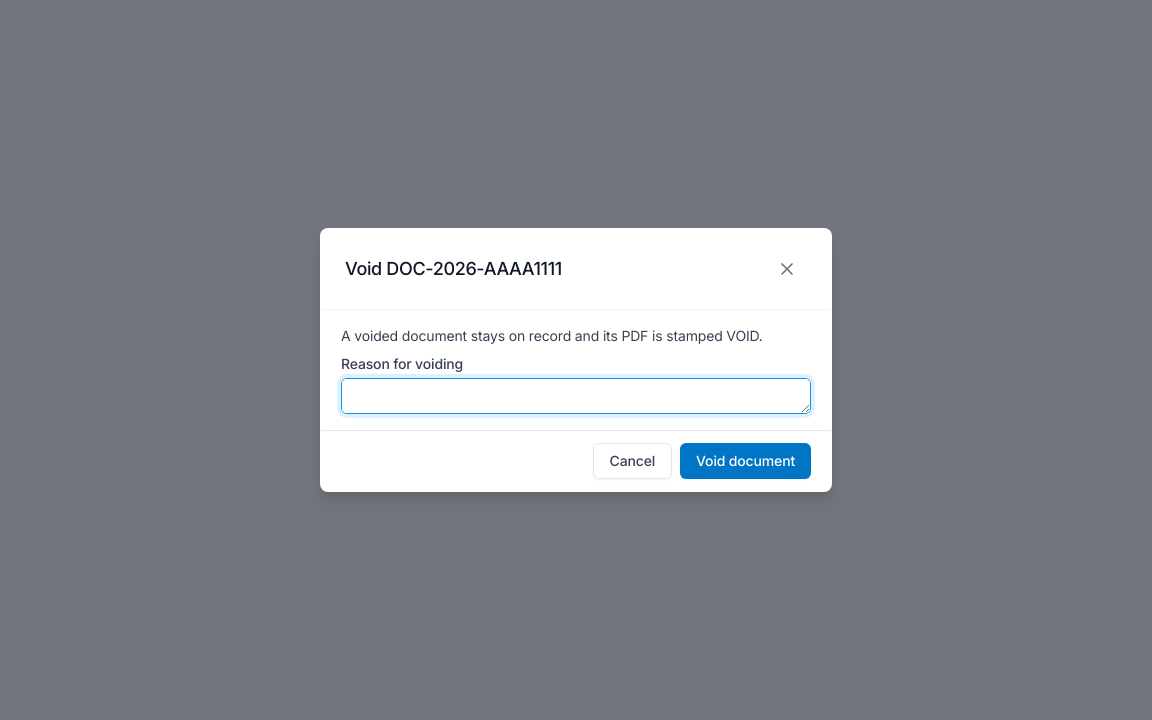
Test: voiding a document › requires a reason of at least 5 characters
Later steps or results of the test are not shown.
Type "no" into the text box labelled "Reason for voiding". click: (576, 396)
box: top-left (341, 378), bottom-right (811, 414)
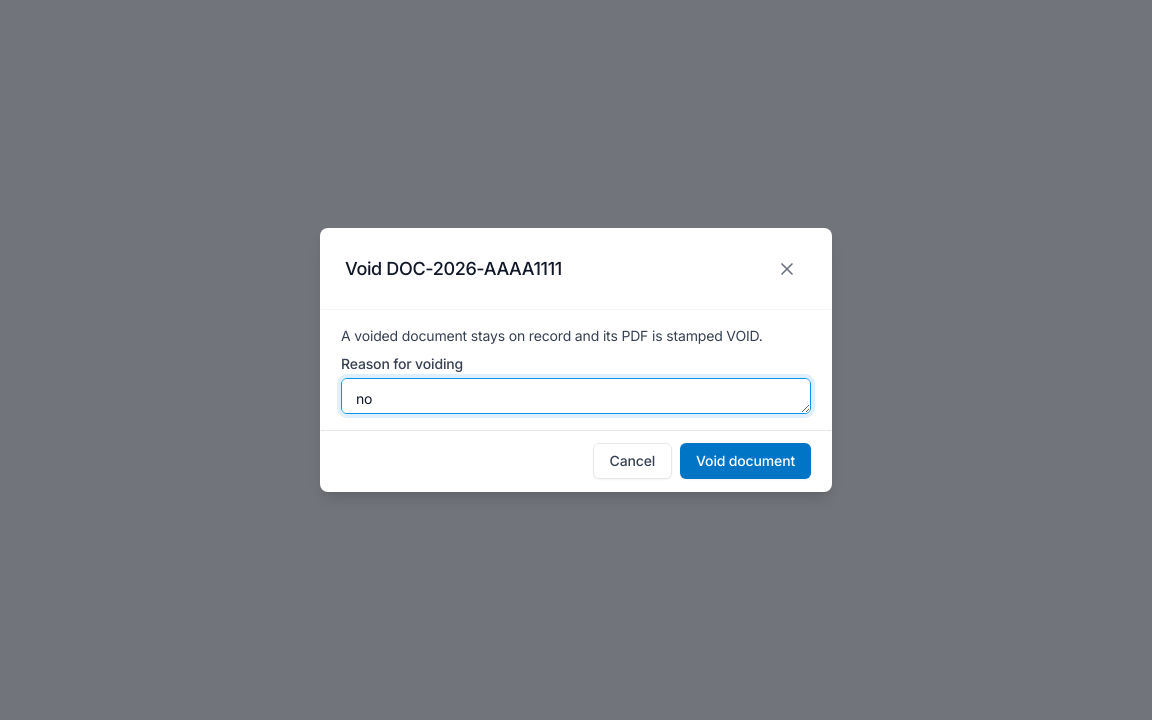
Click the button "Void document". click: (746, 461)
box: top-left (680, 443), bottom-right (811, 479)
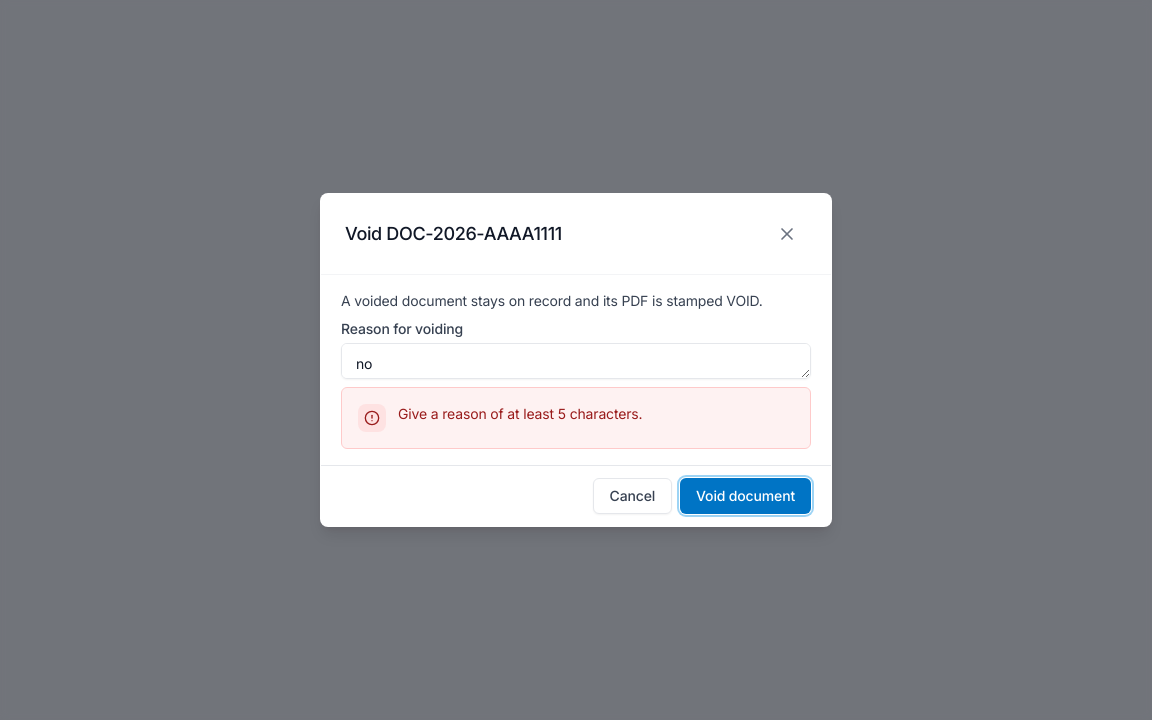
Expected: the text "Give a reason of at least 5 characters." is shown, top-left (398, 404), bottom-right (642, 424)
